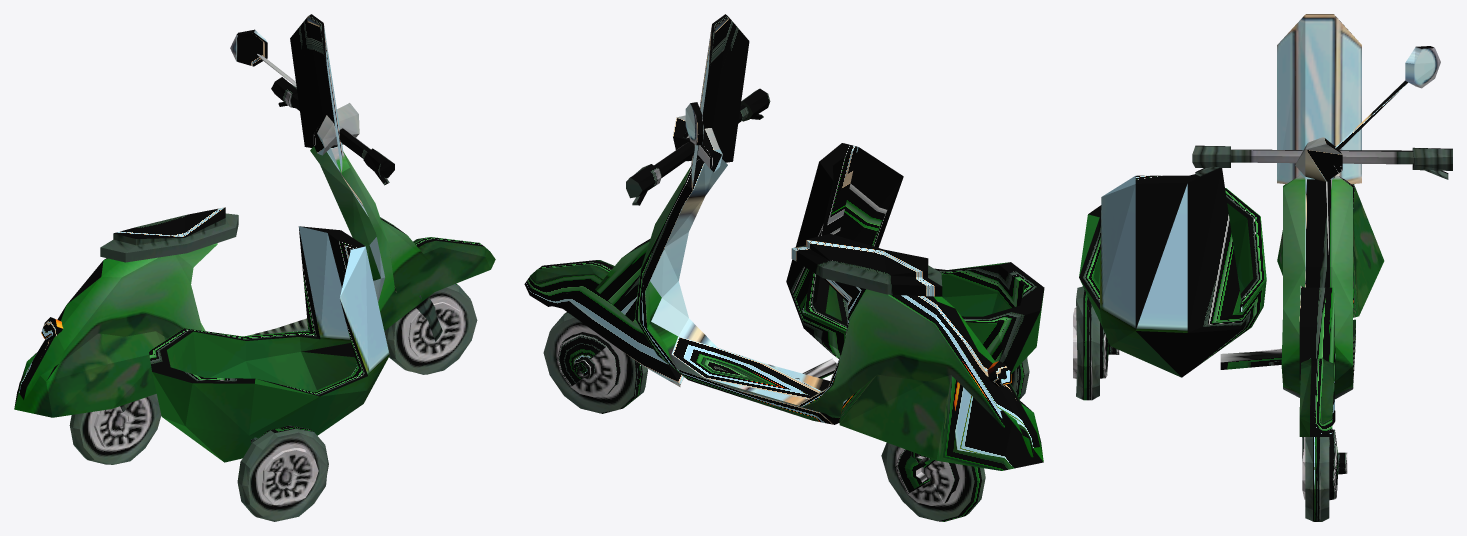
File: Vespa3.glb
3 renders of one model, left to right at view 1: azimuth 30°, elevation 25°; view 2: azimuth 150°, elevation 25°; view 3: azimuth 270°, elevation 25°, orthographic. The views are drawn at different scales.
Visible parts, largest first — view 1: Vespa3; view 2: Vespa3; view 3: Vespa3.
Boxes of the visible parts, box(x1,y1,x2,y2) form: Vespa3: box(14, 14, 495, 521); Vespa3: box(524, 14, 1044, 521); Vespa3: box(1073, 14, 1452, 521).
Size of the model in its own units: 137 by 110 by 82.71.
1 material, 1 textured.
